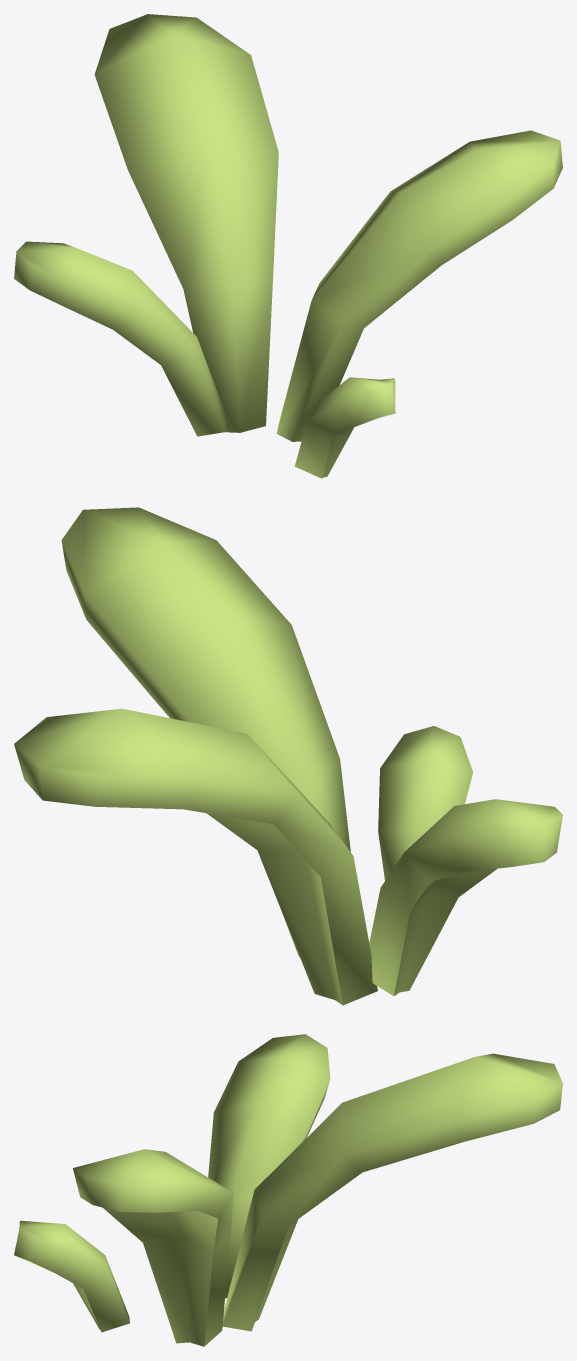
The model's file is SM_GrassTest.fbx.
3 views of the same model, one above another, from view 1: azimuth 30°, elevation 25°; view 2: azimuth 150°, elevation 25°; view 3: azimuth 270°, elevation 25° (orthographic). The views are drawn at different scales.
Visible parts, largest first — view 1: Plane.004; view 2: Plane.004; view 3: Plane.004.
Boxes of the visible parts, left/top/right/bottom form: Plane.004: left=14, top=14, right=562, bottom=478; Plane.004: left=14, top=507, right=562, bottom=1005; Plane.004: left=14, top=1034, right=562, bottom=1346.
Bounding box in the file's own units: 3.27 × 2.04 × 3.46.
